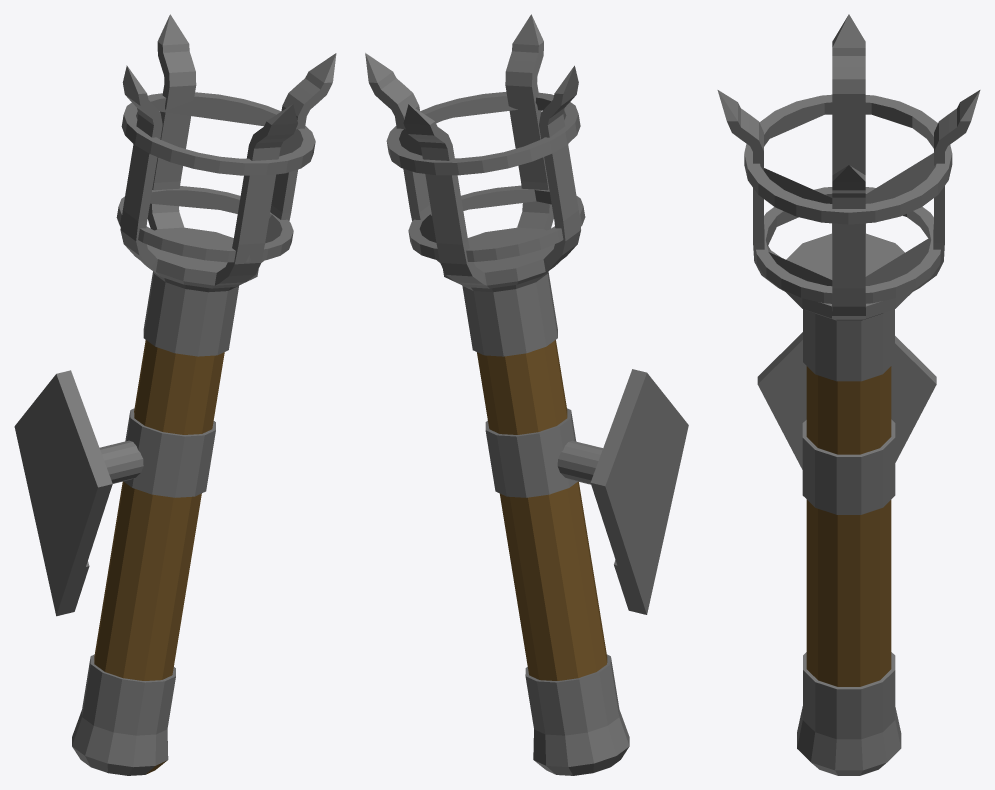
File: TorchWall.fbx
3 renders of one model, left to right at view 1: azimuth 30°, elevation 25°; view 2: azimuth 150°, elevation 25°; view 3: azimuth 270°, elevation 25°, orthographic. The views are drawn at different scales.
Parts seen in each view (by area): view 1: TorchWall.001; view 2: TorchWall.001; view 3: TorchWall.001.
Part boxes in pixels (box(x1,y1,x2,y2)): TorchWall.001: box(14, 14, 336, 775); TorchWall.001: box(365, 14, 688, 775); TorchWall.001: box(717, 14, 980, 775).
Size of the model in its own units: 17.17 by 40.87 by 13.
